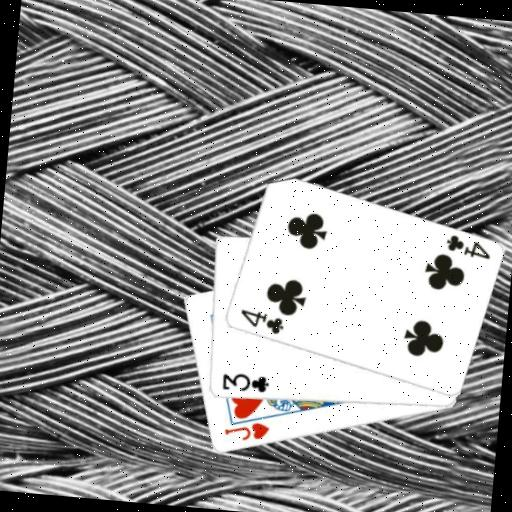3C: (218, 370, 271, 396)
4C: (442, 231, 494, 262), (236, 306, 287, 336)
JH: (220, 417, 272, 445)
